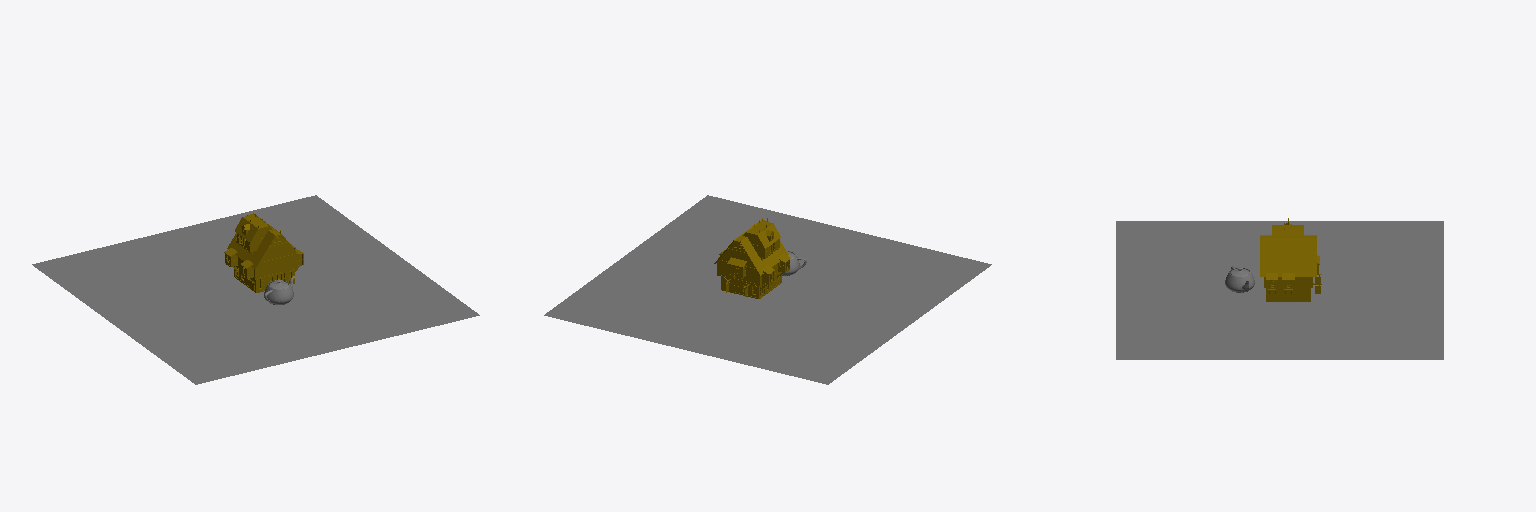
3 renders of one model, left to right at view 1: azimuth 30°, elevation 25°; view 2: azimuth 150°, elevation 25°; view 3: azimuth 270°, elevation 25°, orthographic.
Parts seen in each view (by area): view 1: Plane001, Medieval_building, Teapot001; view 2: Plane001, Medieval_building; view 3: Plane001, Medieval_building, Teapot001.
Boxes of the visible parts, <box> form: Plane001: <box>32,195,479,384</box>; Medieval_building: <box>224,213,303,292</box>; Teapot001: <box>264,276,294,304</box>; Plane001: <box>544,195,991,384</box>; Medieval_building: <box>714,218,790,298</box>; Plane001: <box>1116,221,1443,359</box>; Medieval_building: <box>1260,218,1321,301</box>; Teapot001: <box>1225,266,1254,292</box>.
Size of the model in its own units: 20 by 4.57 by 20.